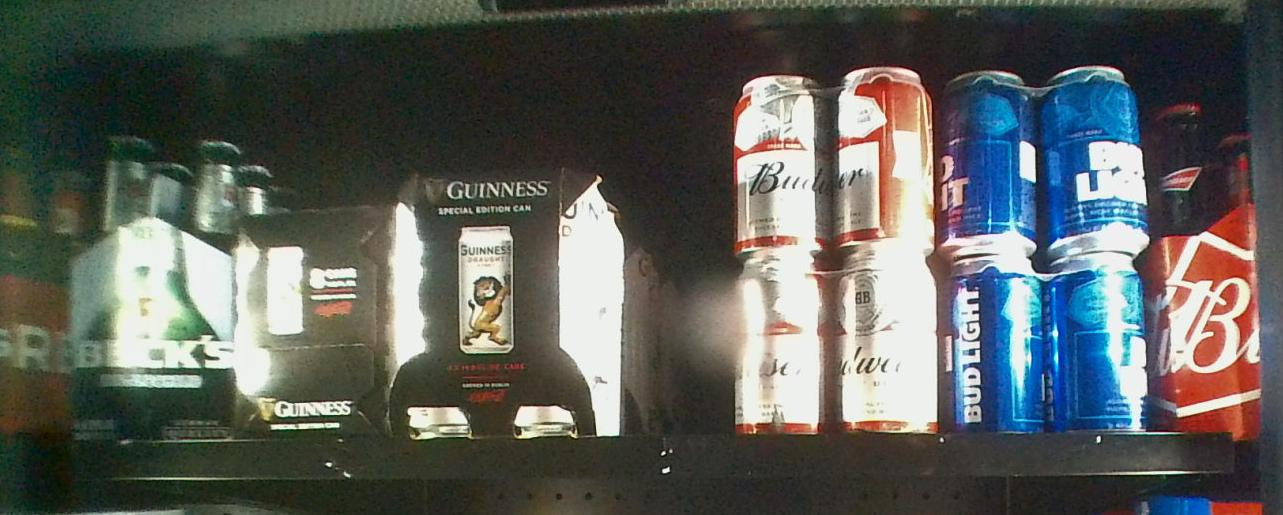bottle: (937, 68, 1150, 434), (728, 75, 939, 437), (394, 171, 599, 441), (67, 131, 236, 445), (236, 209, 394, 438)
